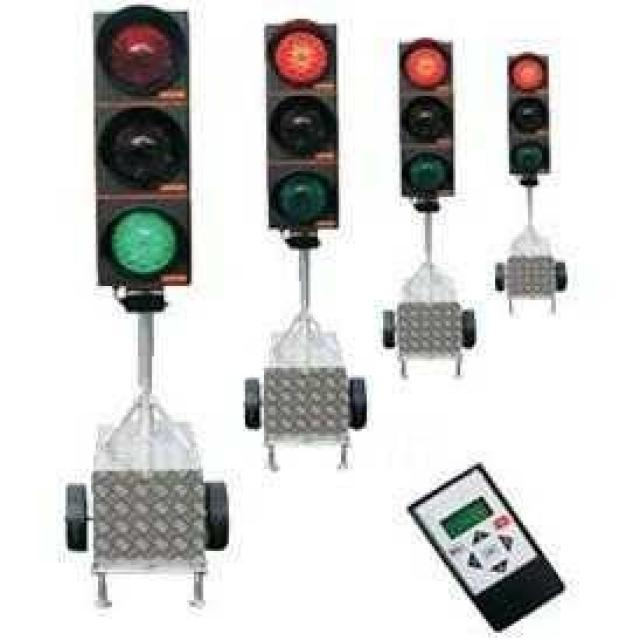Traffic Light -Green-: (86, 0, 196, 288)
Traffic Light -Red-: (262, 12, 341, 232), (395, 35, 458, 197), (504, 49, 556, 176)
